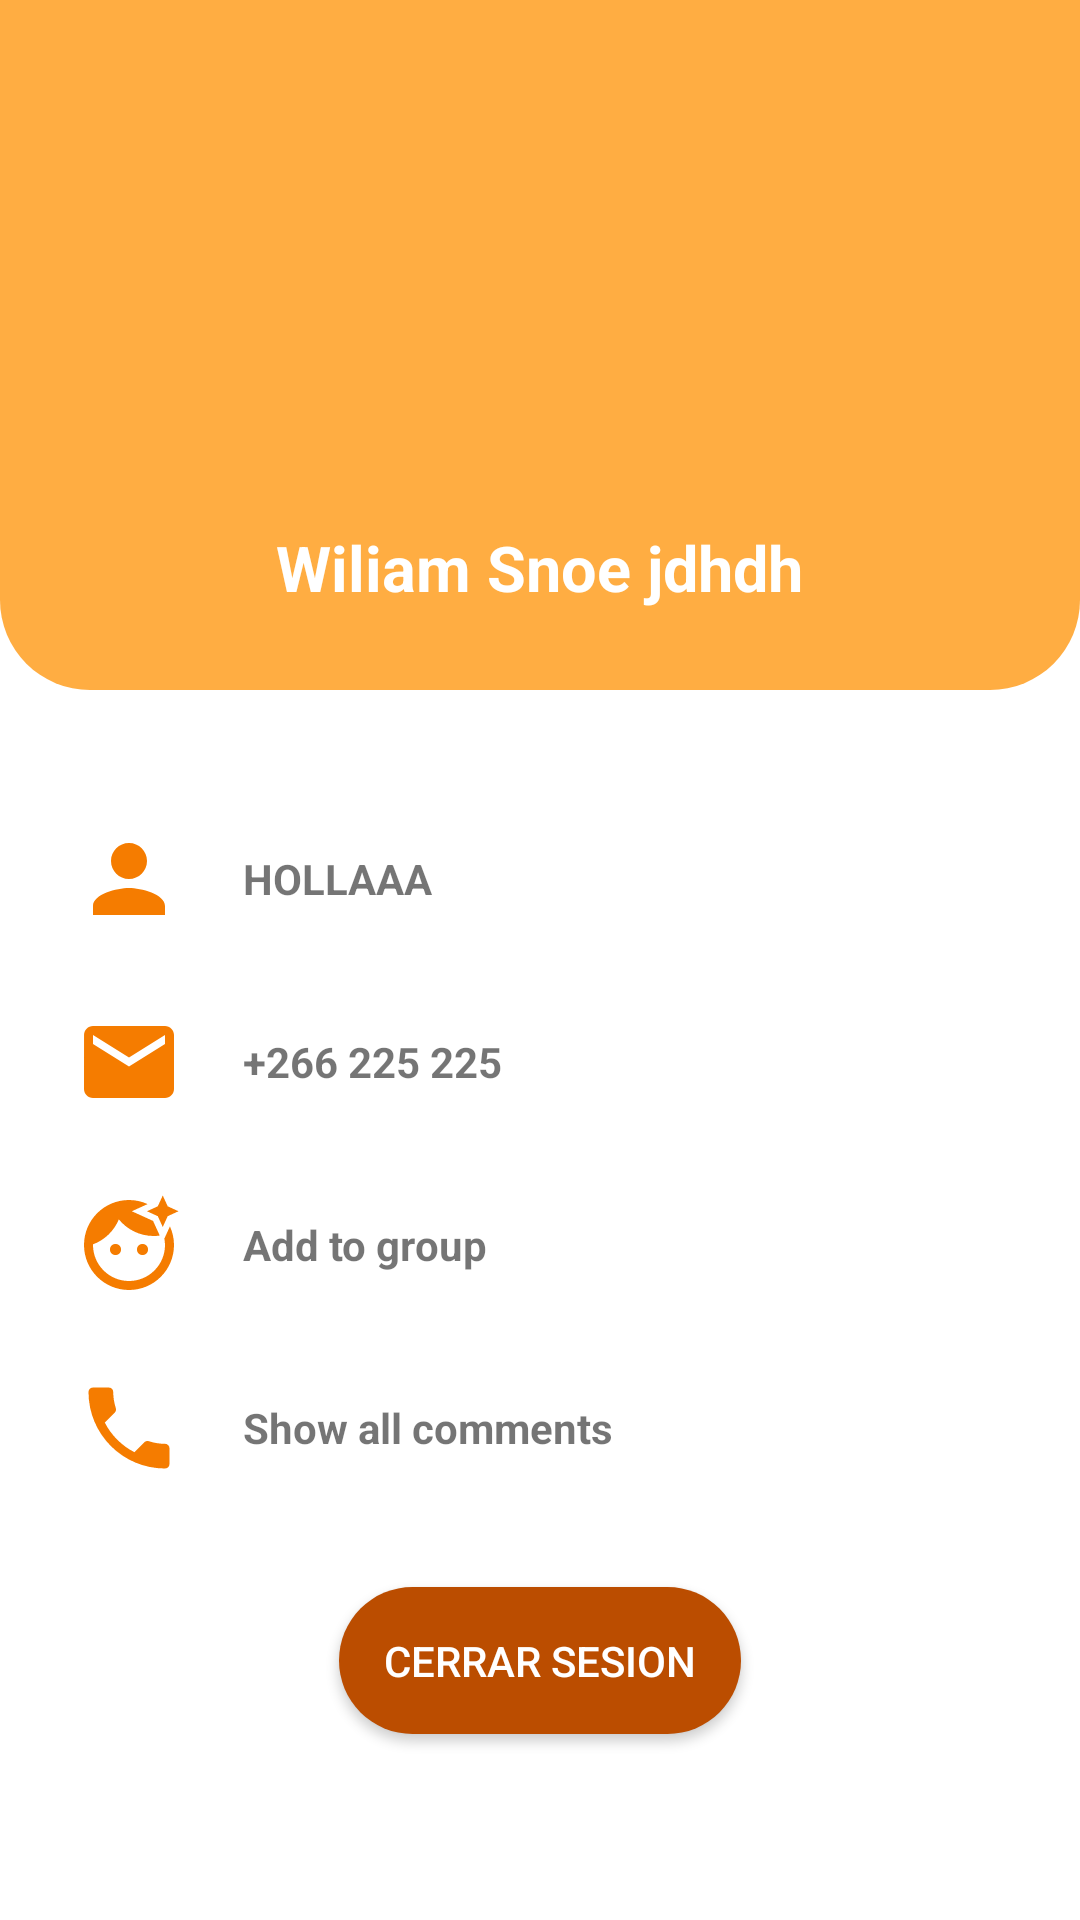

Where to tap for icons on this 1080×1920 app screen, as (x=x, y=y):
email: (x=129, y=1062)
face retouching natural: (x=131, y=1242)
local phone: (x=129, y=1428)
person: (x=129, y=879)
